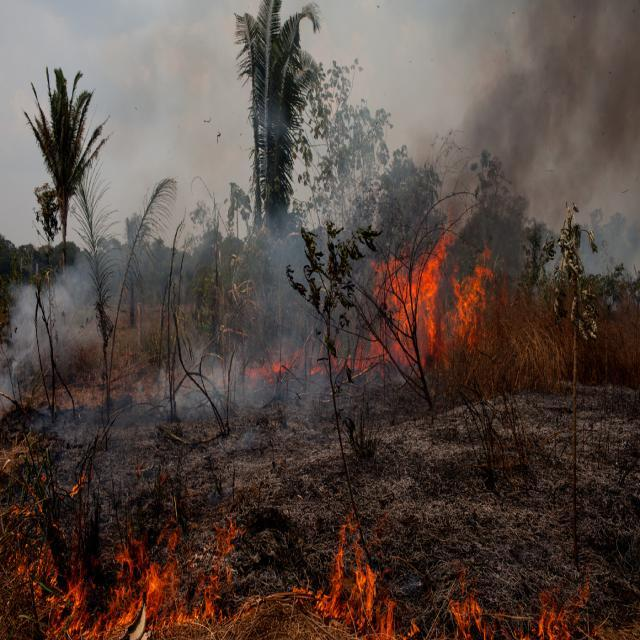Fire: (376, 252, 482, 367), (44, 557, 178, 640), (324, 552, 402, 638)
Smoke: (468, 15, 639, 200), (11, 288, 104, 390), (262, 223, 312, 410), (170, 364, 274, 426)
